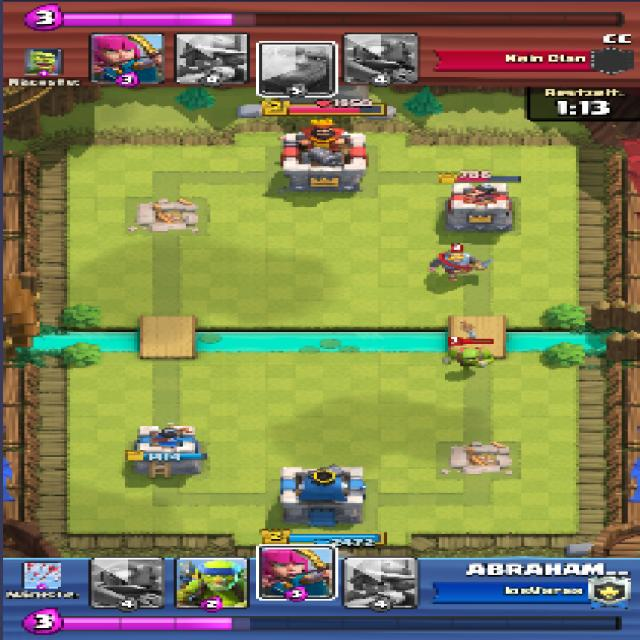Enemy-Knight: (421, 252, 493, 282)
Player-GoblinCage: (438, 345, 496, 372)
